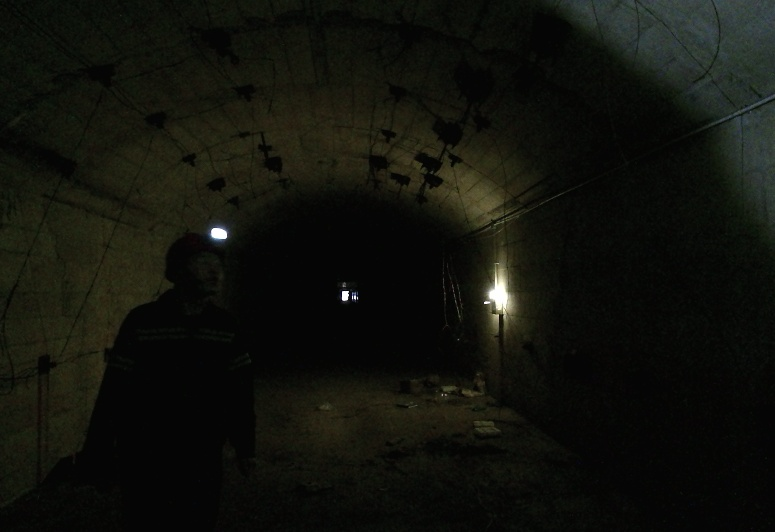person: (162, 239, 282, 532)
